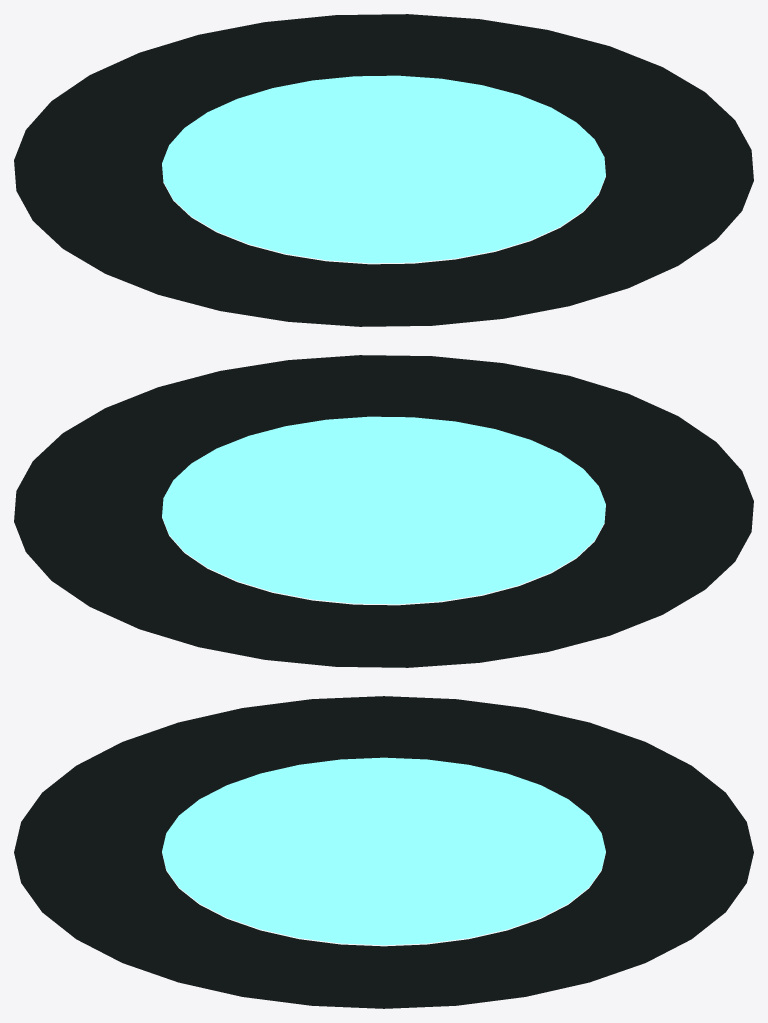
Rendered from zone_soul.glb.
3 views of the same model, one above another, from view 1: azimuth 30°, elevation 25°; view 2: azimuth 150°, elevation 25°; view 3: azimuth 270°, elevation 25° (orthographic).
Visible parts, largest first — view 1: zone_soul; view 2: zone_soul; view 3: zone_soul.
Boxes of the visible parts, box(x1,y1,x2,y2) form: zone_soul: box(14, 14, 753, 326); zone_soul: box(14, 355, 753, 667); zone_soul: box(14, 696, 753, 1008).
Bounding box in the file's own units: 0.2 × 0.0003 × 0.2.
